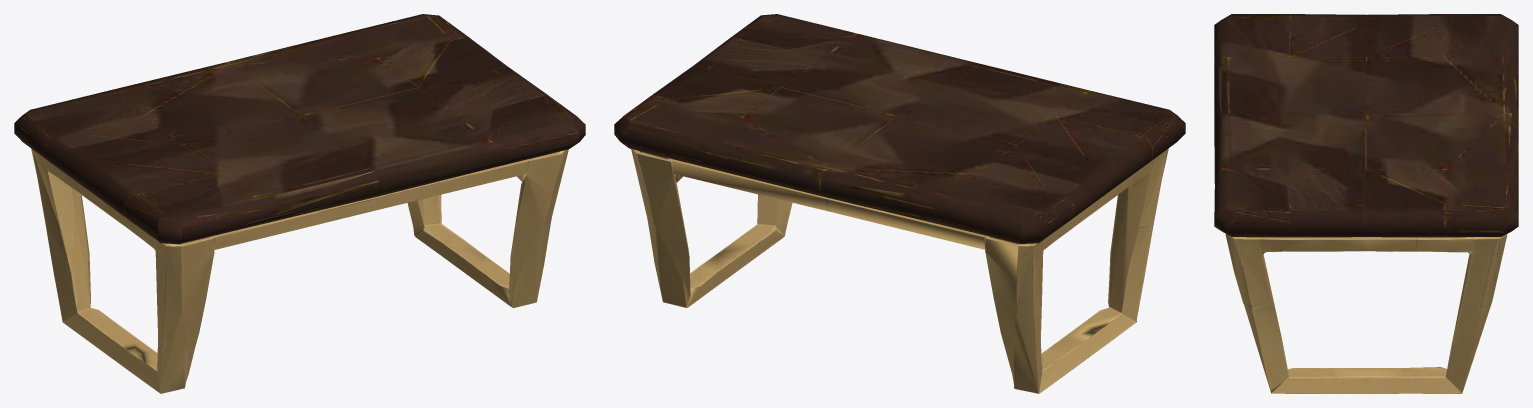
Rendered from max-gold-desk.glb.
3 views of the same model, side by side, from view 1: azimuth 30°, elevation 25°; view 2: azimuth 150°, elevation 25°; view 3: azimuth 270°, elevation 25° (orthographic). The views are drawn at different scales.
Size of the model in its own units: 0.9497 by 0.4155 by 0.5991.
Materials: 1 (1 with a texture image).
